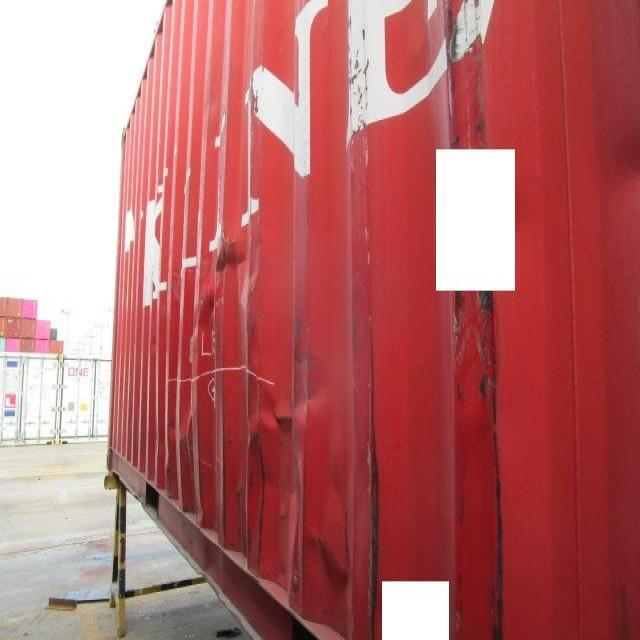dent: (157, 219, 361, 635)
